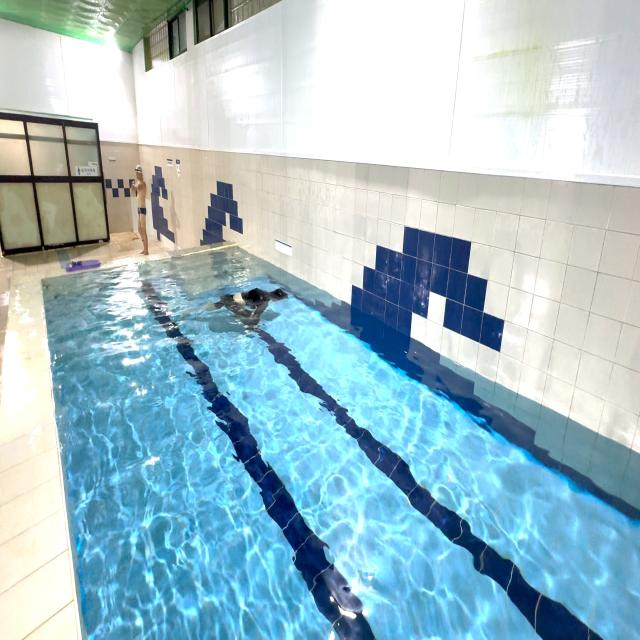Drowning: (198, 279, 292, 326)
